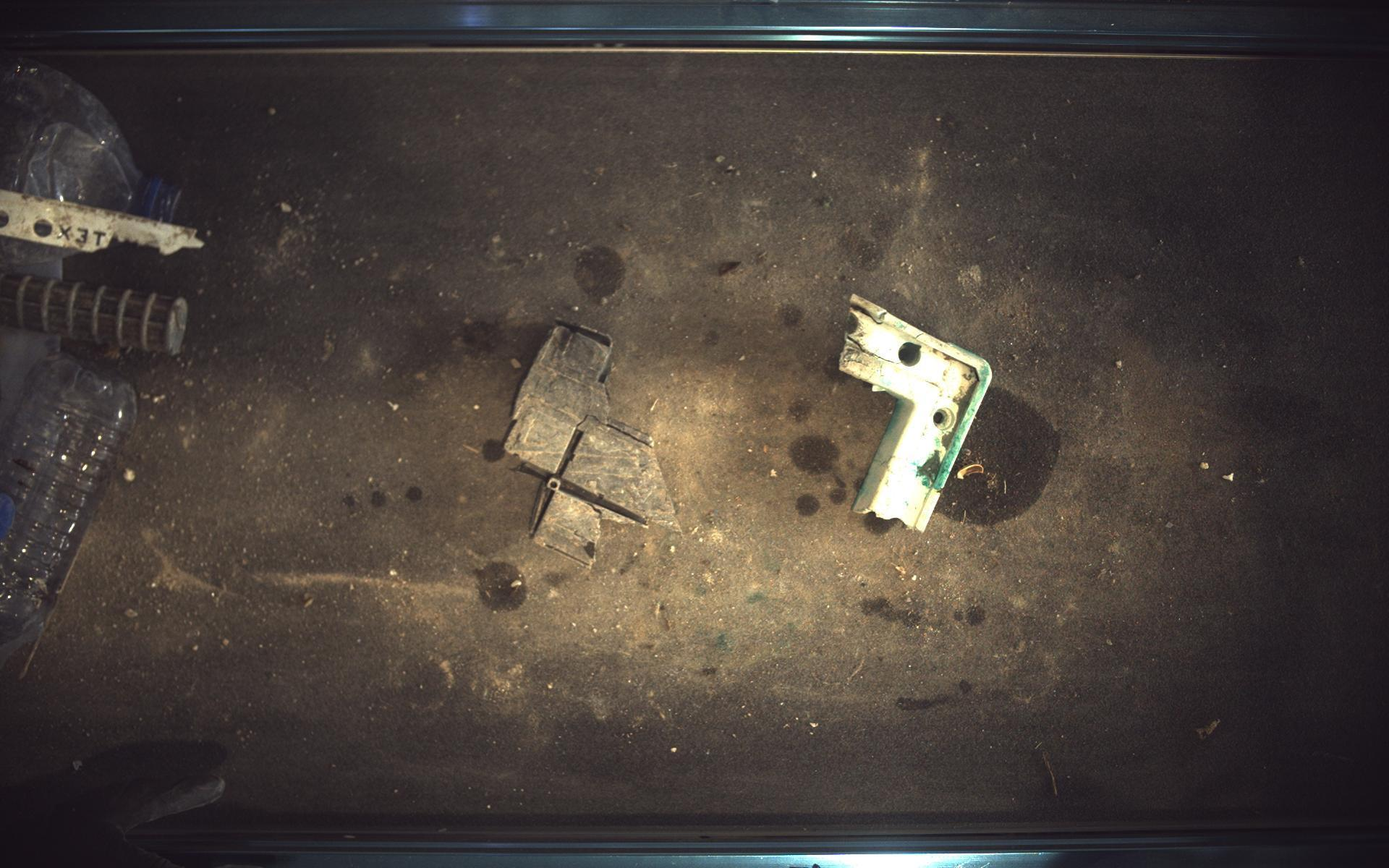plastic: (504, 320, 680, 568), (841, 294, 994, 532)
